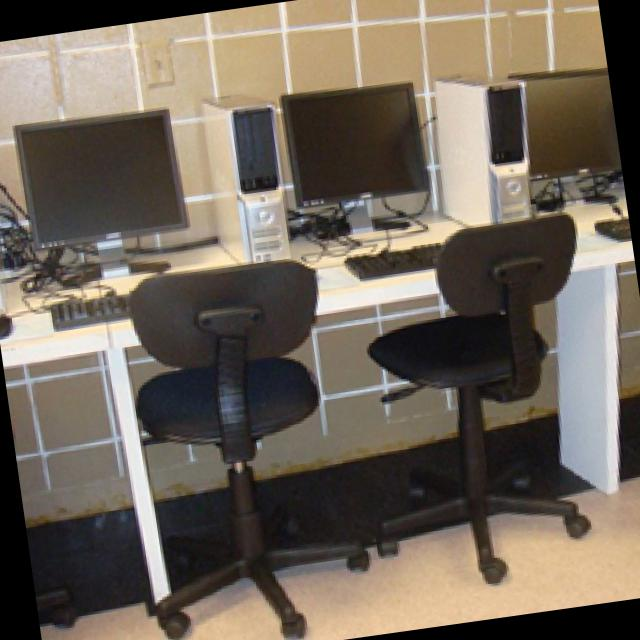CPU occluded: (205, 88, 293, 262), (438, 71, 535, 225)
desk calendar: (0, 174, 634, 603)
floor -X: (31, 390, 640, 640)
keyboad occluded: (52, 288, 135, 329)
keyboard: (346, 239, 447, 279)
monitor crop: (17, 104, 193, 277), (285, 79, 432, 232)
monitor ocluded: (510, 65, 621, 202)
swivel chair crop: (133, 257, 371, 638), (372, 211, 596, 580)
